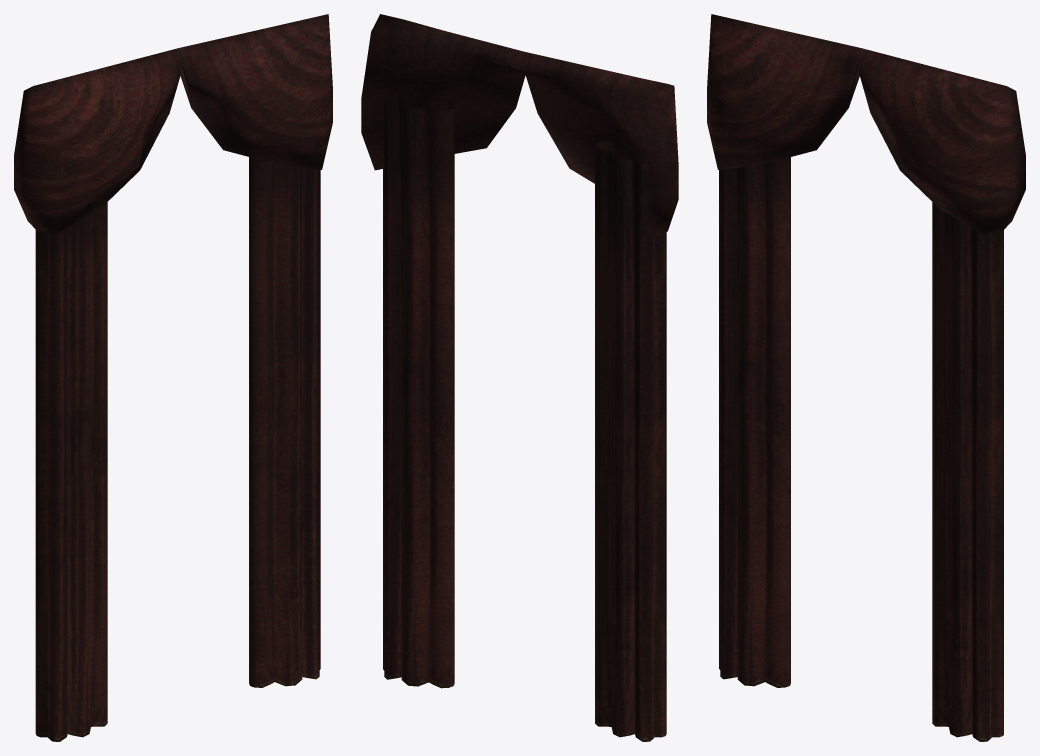
Rendered from curtain02_long.dae.
The picture shows the model from 3 angles, left to right: view 1: azimuth 30°, elevation 25°; view 2: azimuth 150°, elevation 25°; view 3: azimuth 330°, elevation 25°; orthographic projection.
Parts seen in each view (by area): view 1: polySurface191; view 2: polySurface191; view 3: polySurface191.
Part boxes in pixels (bbox=[...]): polySurface191: bbox=[14, 14, 332, 741]; polySurface191: bbox=[361, 14, 678, 741]; polySurface191: bbox=[707, 14, 1025, 741].
Size of what is drawn, in the model's own units: 2.5 by 5.08 by 0.4673.
